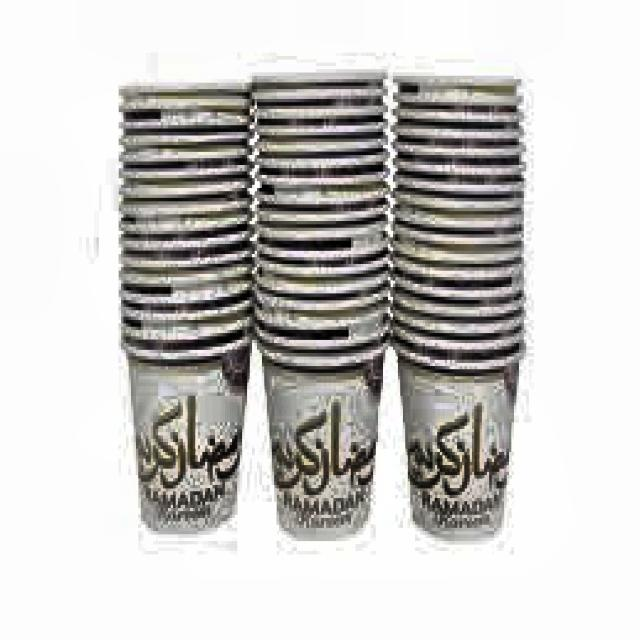Cup: (247, 64, 398, 541), (109, 77, 254, 533), (391, 68, 530, 533)
